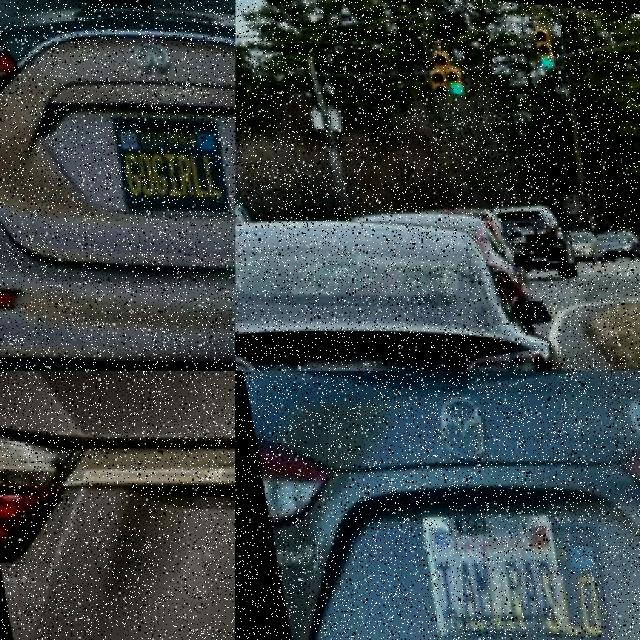licenseplate: (414, 489, 566, 640), (108, 94, 223, 220)
